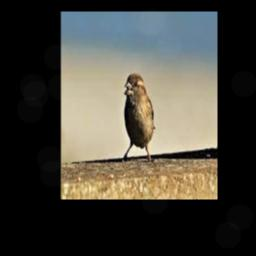Sparrow: (122, 72, 155, 161)
